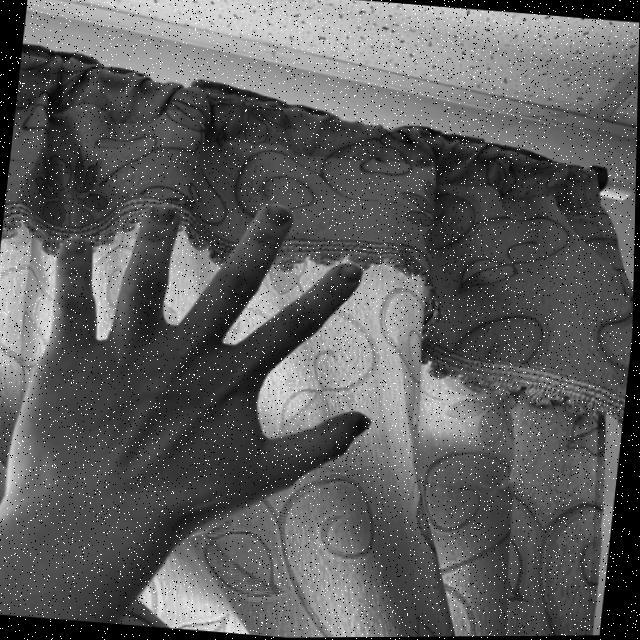no-gloves: (1, 179, 394, 551)
